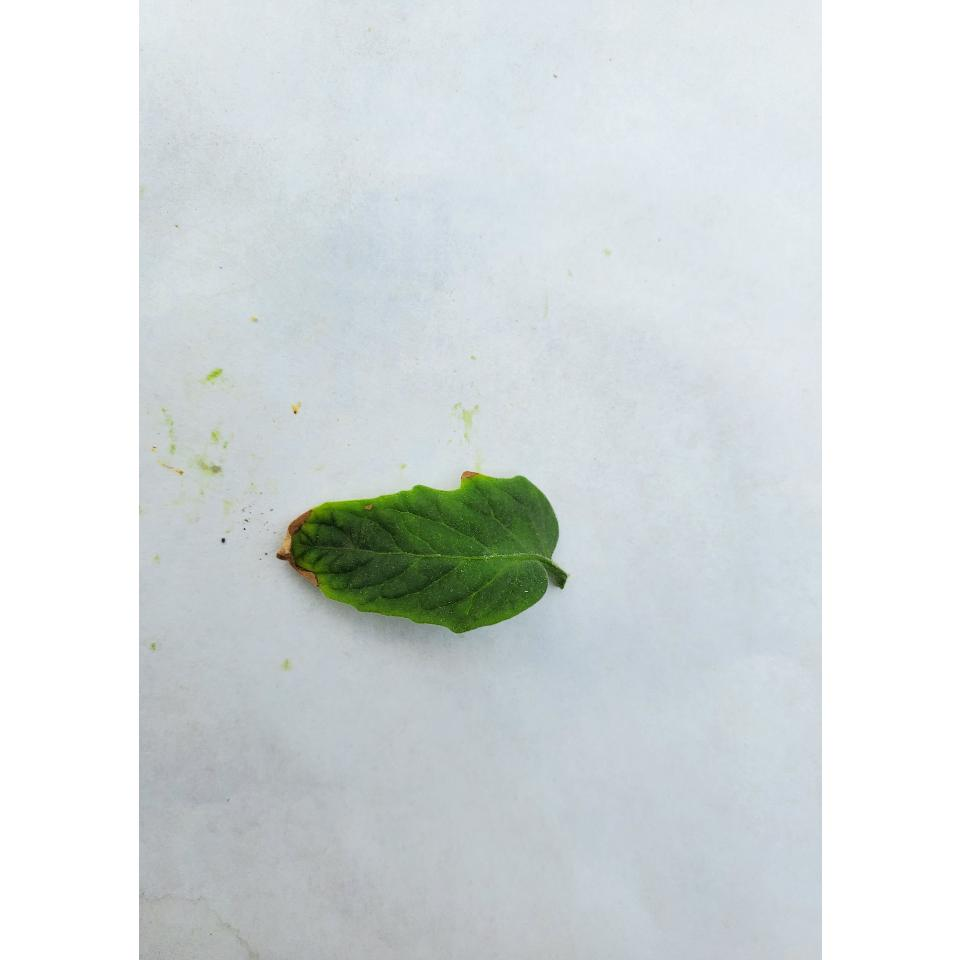tomato_bacterial_blight: (268, 472, 588, 642)
